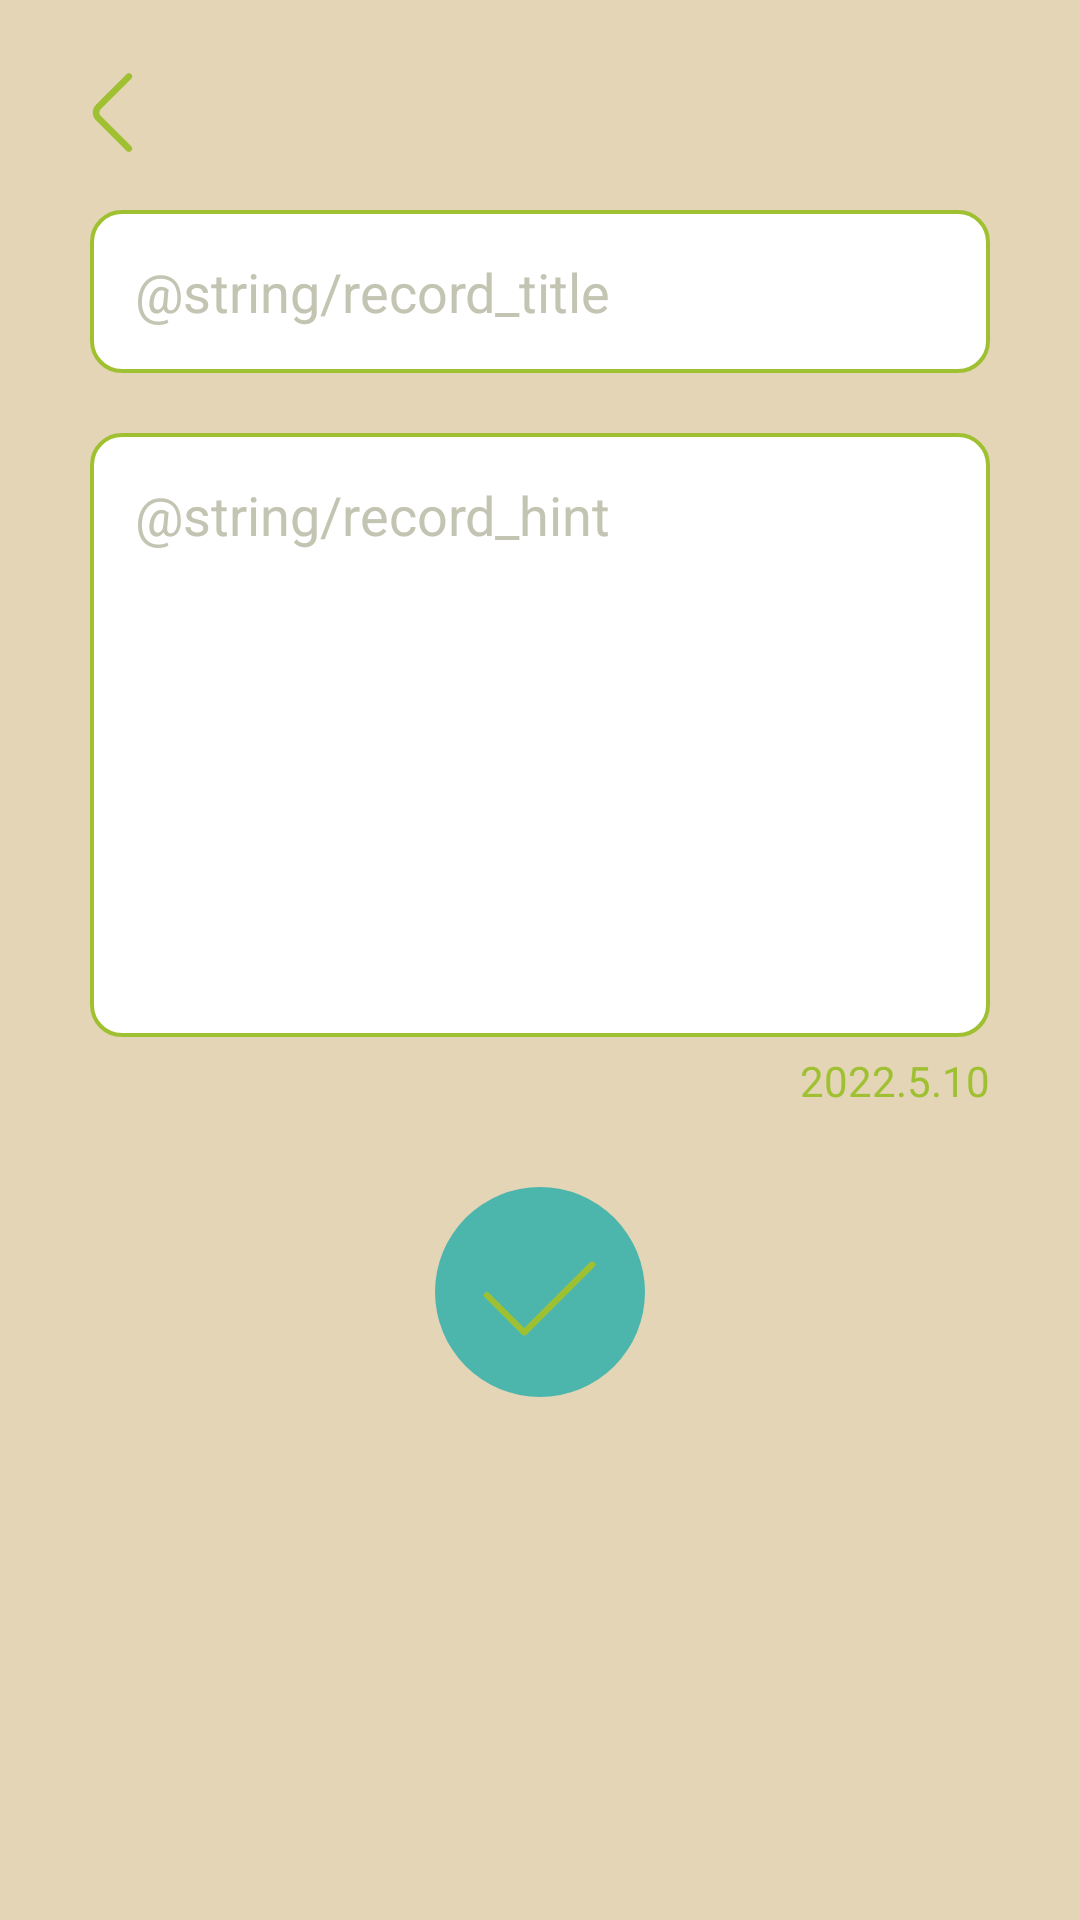

Named icons in this screenshot (1080×1920) and their bounding boxes, (x1, y1, x2, y2):
left: (93, 73, 133, 152)
submit: (435, 1187, 645, 1397)
